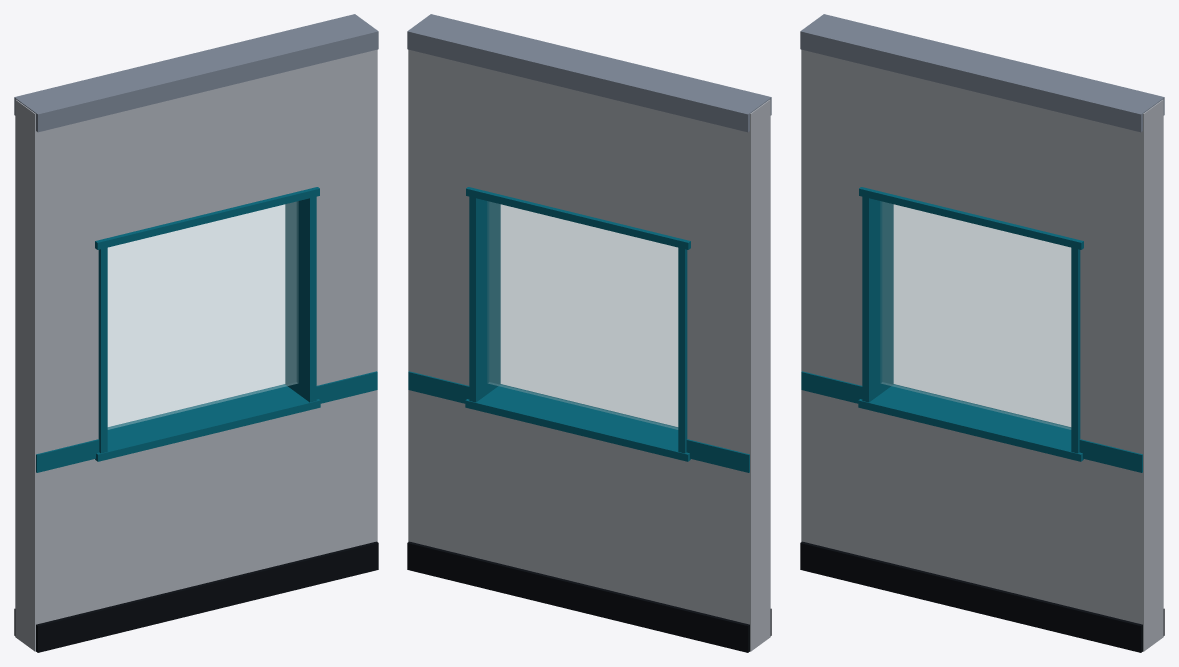
The model's file is SM_Wall_Window_2x3.glb.
3 renders of one model, left to right at view 1: azimuth 30°, elevation 25°; view 2: azimuth 150°, elevation 25°; view 3: azimuth 330°, elevation 25°, orthographic.
Visible parts, largest first — view 1: SM_Wall_Window_2x3-col; view 2: SM_Wall_Window_2x3-col; view 3: SM_Wall_Window_2x3-col.
Boxes of the visible parts, <box> form: SM_Wall_Window_2x3-col: <box>14,14,378,652</box>; SM_Wall_Window_2x3-col: <box>407,14,771,652</box>; SM_Wall_Window_2x3-col: <box>800,14,1164,652</box>.
Size of the model in its own units: 2 by 3 by 0.26.
